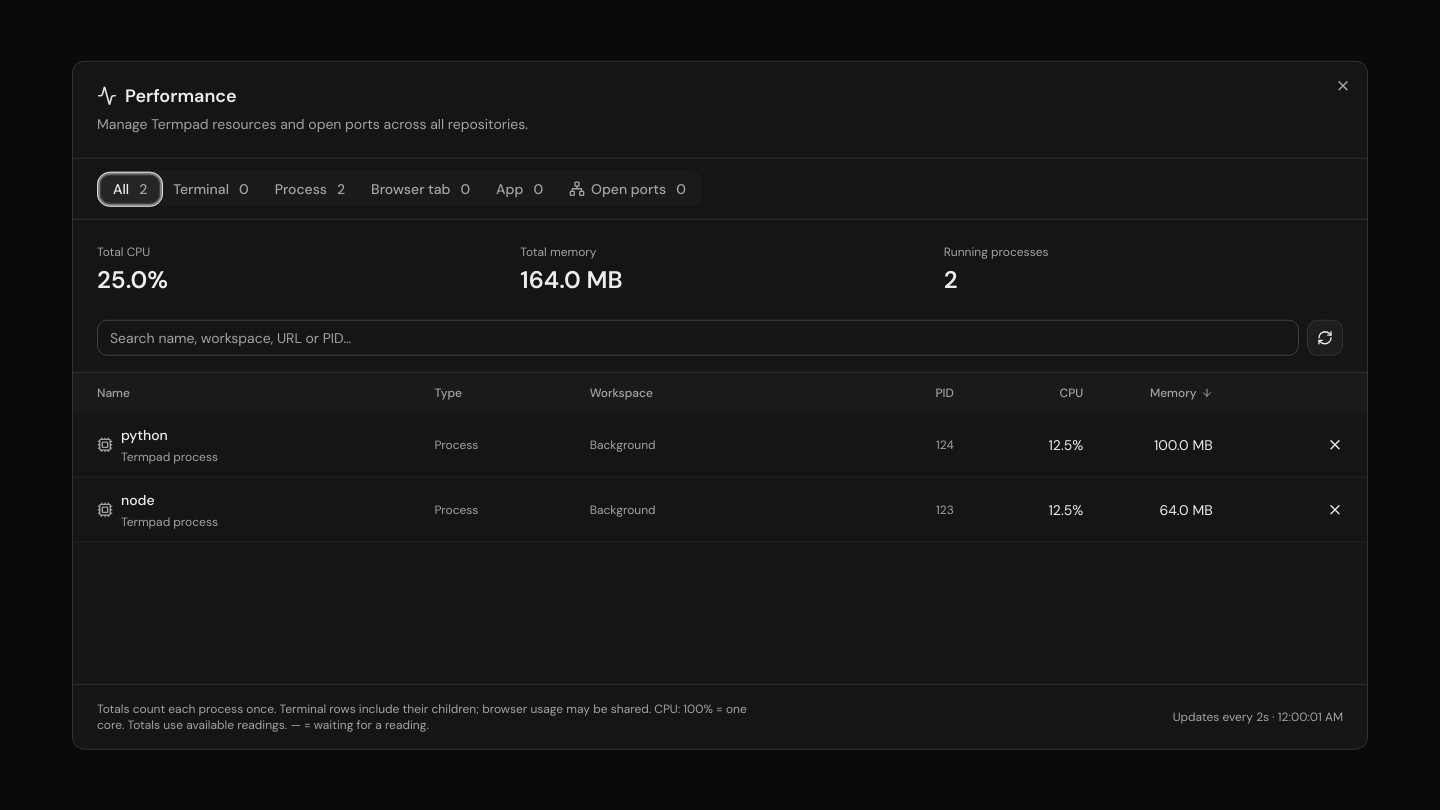
Scenario: Performance view › shows totals, sorts numerically, and searches running processes
Check: the text "node" is shown, box [121,491,155,509]
Check: the text "164.0 MB" is shown, box [520,264,622,295]
Step 1. Click the button "Memory" → (1181, 393), box [1150,385,1213,401]
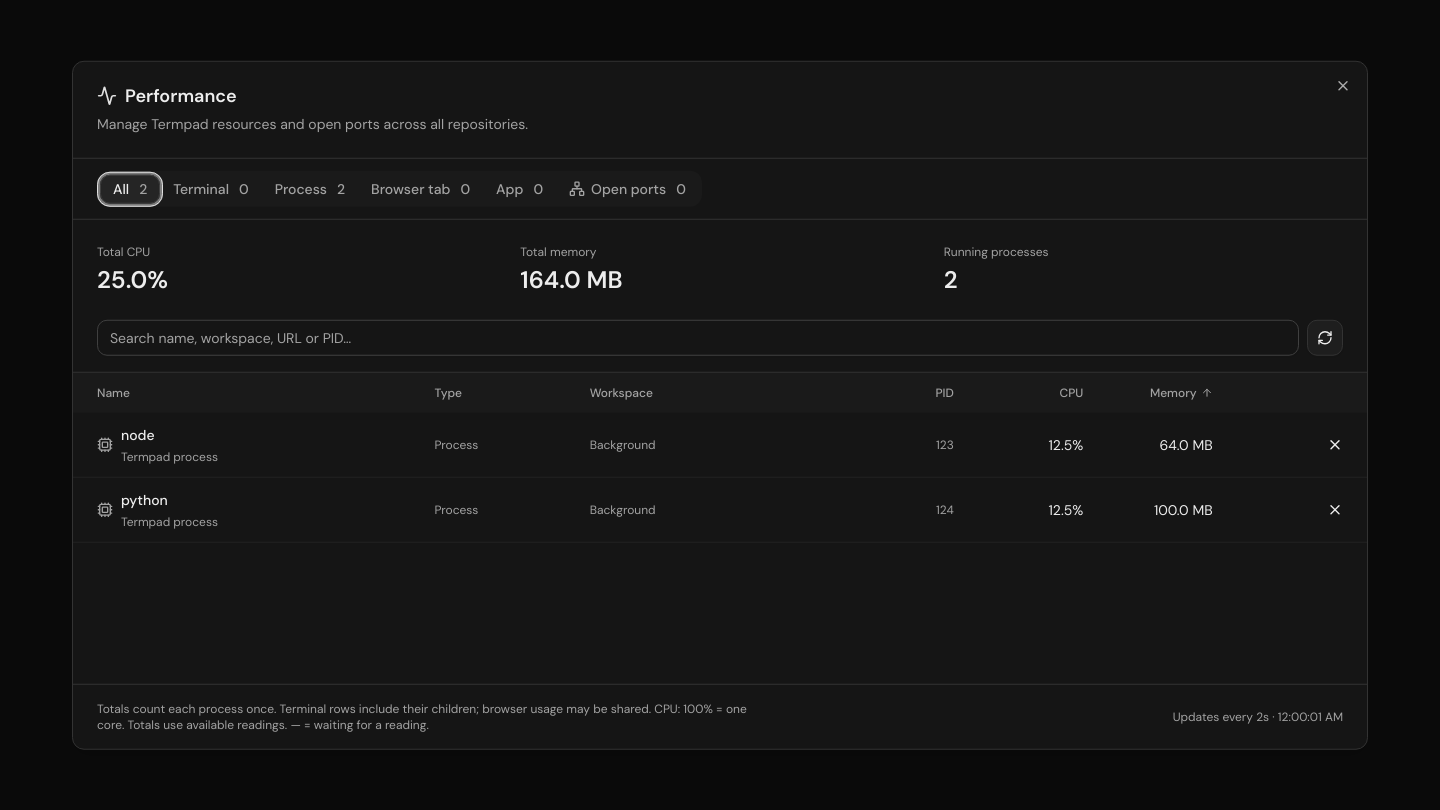
Check: the row "node Termpad process Process Background 123 12.5% 64.0 MB" is shown, box [73,413,1367,477]
Step 2. Type "123" into the field named "Search running items" → (698, 338), box [97,320,1299,356]
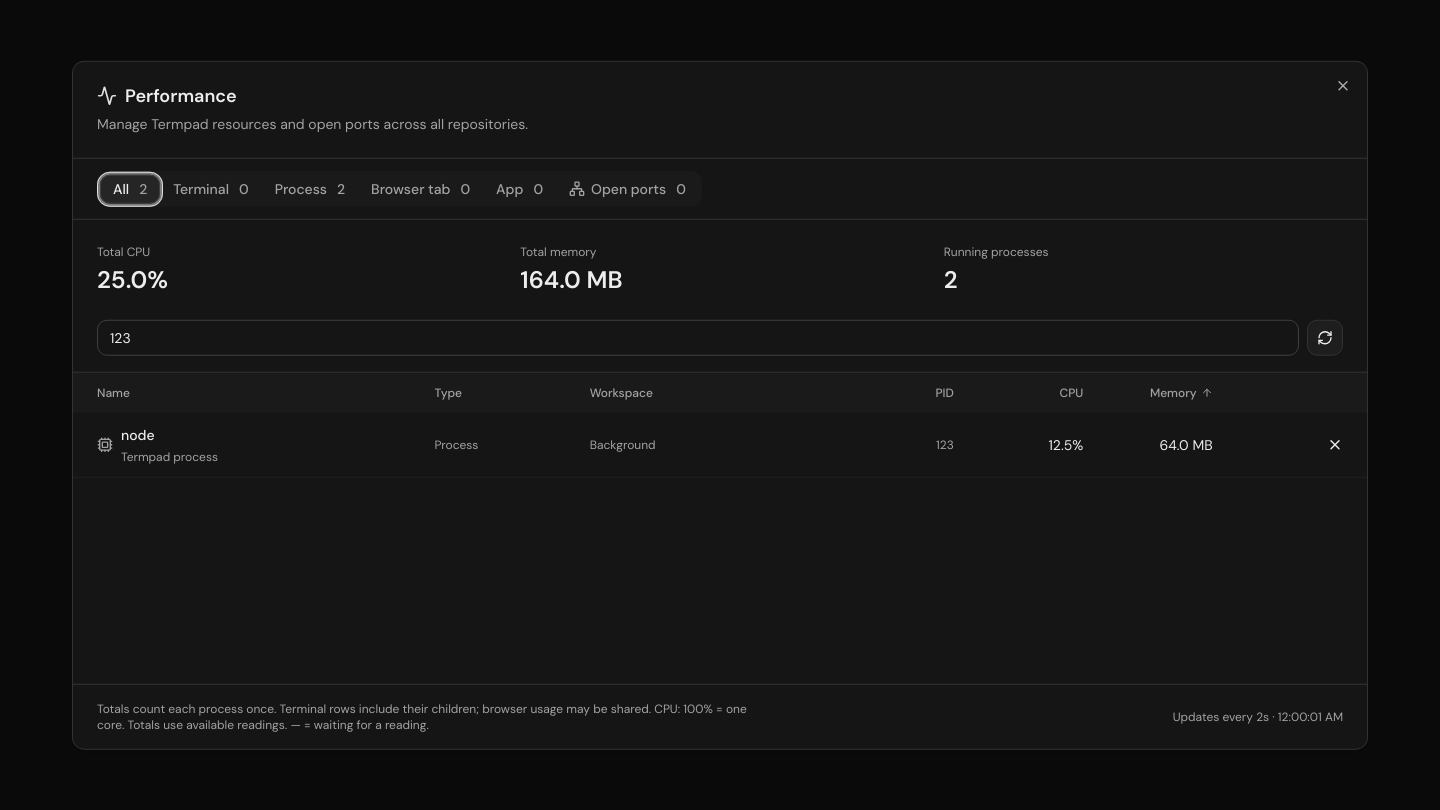
Check: the text "node" is shown, box [121,426,155,444]
Check: the text "python" is gone
